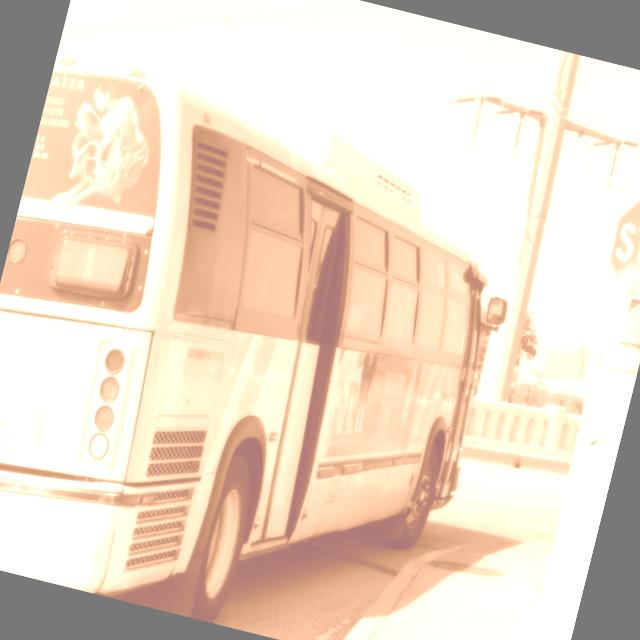Vehicle: (0, 46, 541, 640)
